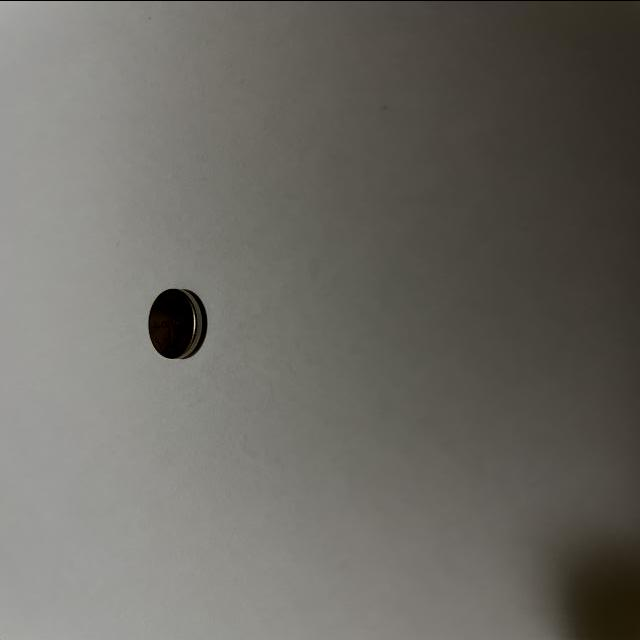COIN: (148, 286, 206, 361)
